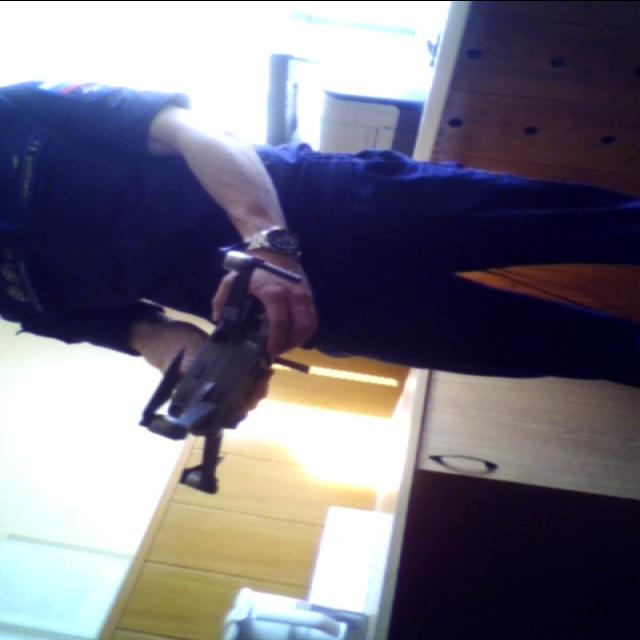drone: (100, 238, 360, 506)
